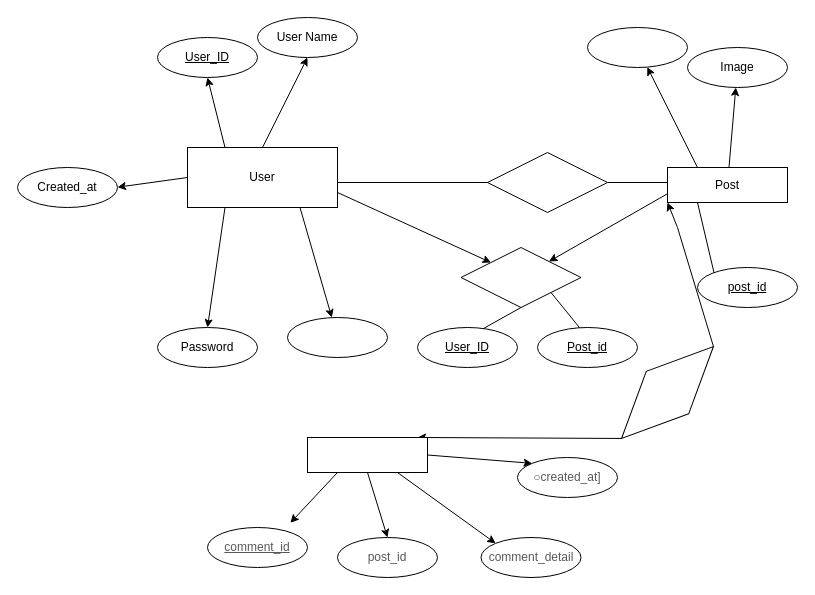
The diagram is 815 pixels wide and 595 high, and some of its shapes have lost their labels. The shapes that lost their labels are listed below. From the top down, each one's centre as x and y in pixels, then its label:
point 637,47: TItle
point 547,182: Has
point 520,277: Likes
point 337,337: Email
point 667,392: Got
point 367,454: Comment
